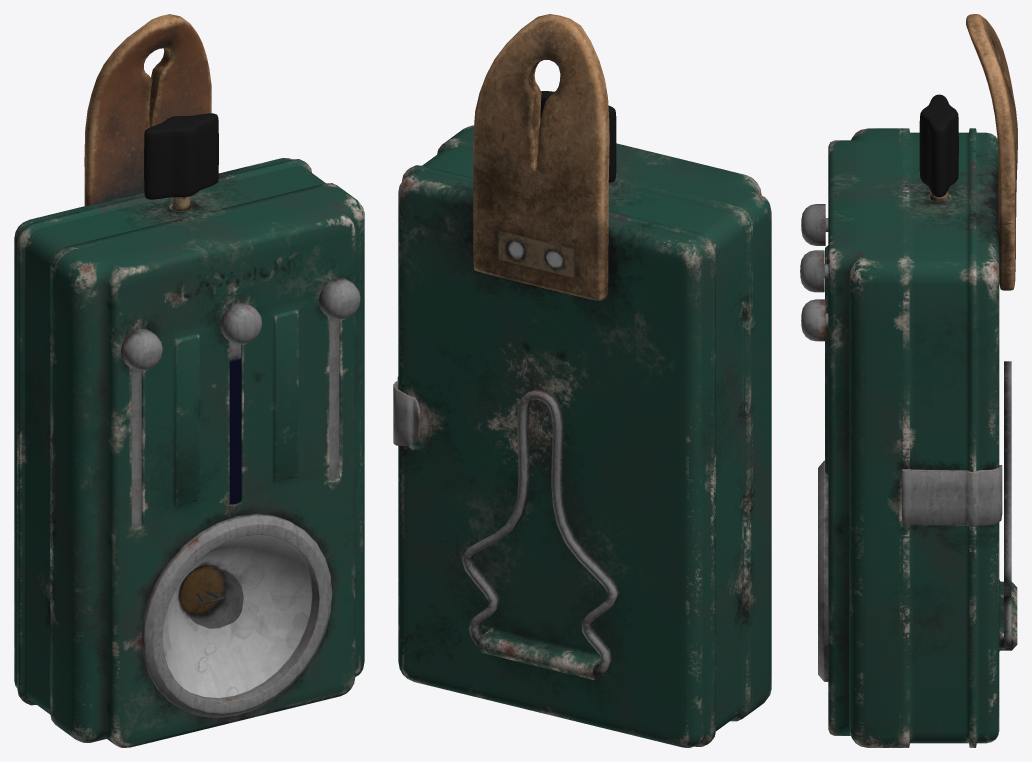
Rendered from signal_flashlight.gltf.
3 renders of one model, left to right at view 1: azimuth 30°, elevation 25°; view 2: azimuth 150°, elevation 25°; view 3: azimuth 270°, elevation 25°, orthographic. The views are drawn at different scales.
Parts seen in each view (by area): view 1: signal_flashlight.001; view 2: signal_flashlight.001; view 3: signal_flashlight.001.
Part boxes in pixels (<box>): signal_flashlight.001: <box>14,14,364,747</box>; signal_flashlight.001: <box>393,14,771,747</box>; signal_flashlight.001: <box>800,14,1017,747</box>.
Size of the model in its own units: 0.071 by 0.1499 by 0.0445.
3 materials, 3 textured.
